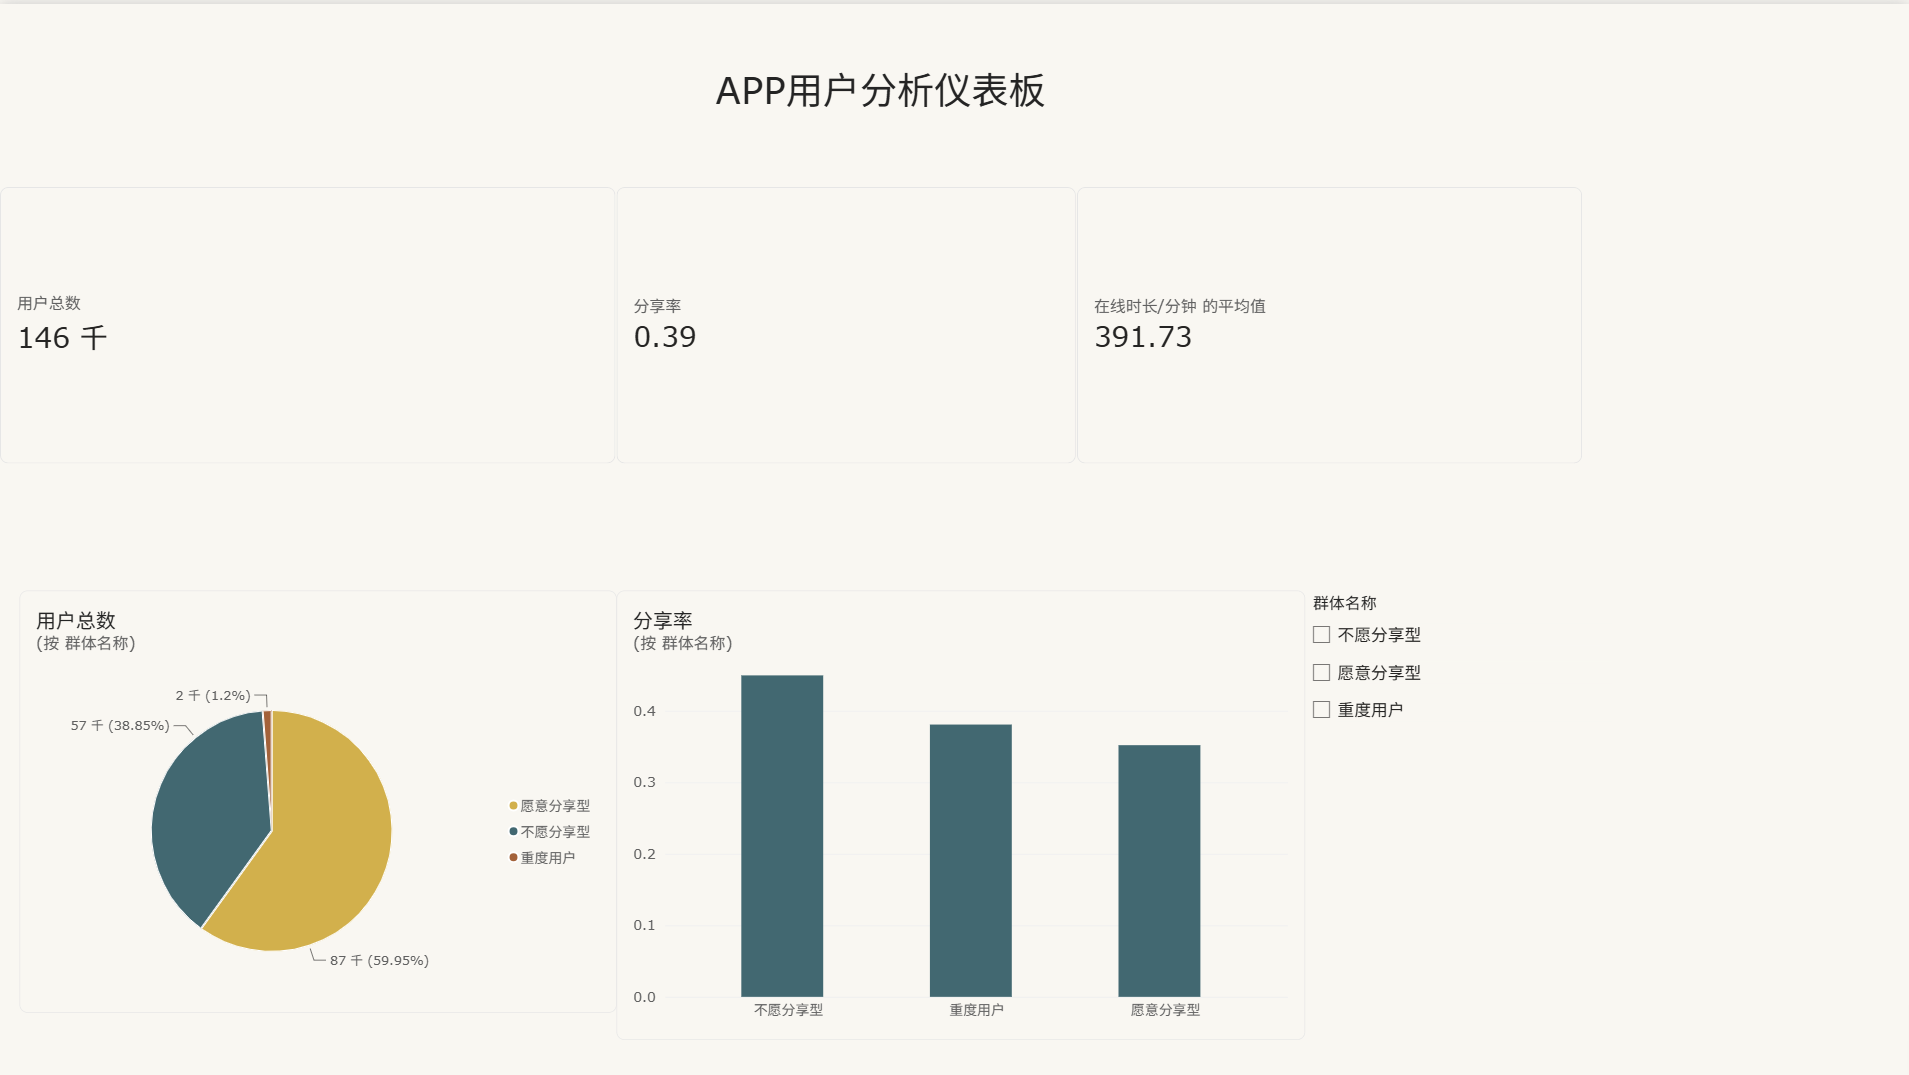

The dashboard page shown, as its layout file describes it:
{"tool":"powerbi","page":{"name":"第 3 页","canvas":[1920,1080],"ordinal":2},"visuals":[{"type":"cardVisual","fields":{"Data":["app_users_clustered.用户总数"]},"box":[0,184.1,619.9,278.8],"z":0},{"type":"cardVisual","fields":{"Data":["app_users_clustered.分享率"]},"box":[619.9,184.1,462.9,278.8],"z":1},{"type":"cardVisual","fields":{"Data":["Avg(app_users_clustered.在线时长/分钟)"]},"box":[1082.7,184.1,508.9,278.8],"z":2},{"type":"pieChart","fields":{"Category":["app_users_clustered.群体名称"],"Y":["app_users_clustered.用户总数"]},"box":[18.9,590.1,600.9,425],"z":3},{"type":"clusteredColumnChart","fields":{"Category":["app_users_clustered.群体名称"],"Y":["app_users_clustered.分享率"]},"box":[619.9,590.1,692.9,452],"z":4},{"type":"slicer","fields":{"Values":["app_users_clustered.群体名称"]},"box":[1312.8,590.1,308.6,452],"z":5},{"type":"textbox","box":[148.9,56.8,1472.5,151.6],"z":6}]}

Visuals, with their boxes in screenshot pixels (x1, y1, x2, y2), scaled from the page's 1920x1080 canvas onto the 1909x1075 screenshot:
cardVisual - app_users_clustered.用户总数: [0, 183, 616, 461]
cardVisual - app_users_clustered.分享率: [616, 183, 1077, 461]
cardVisual - Avg(app_users_clustered.在线时长/分钟): [1076, 183, 1582, 461]
pieChart - app_users_clustered.群体名称 x app_users_clustered.用户总数: [19, 587, 616, 1010]
clusteredColumnChart - app_users_clustered.群体名称 x app_users_clustered.分享率: [616, 587, 1305, 1037]
slicer - app_users_clustered.群体名称: [1305, 587, 1612, 1037]
textbox: [148, 57, 1612, 207]
